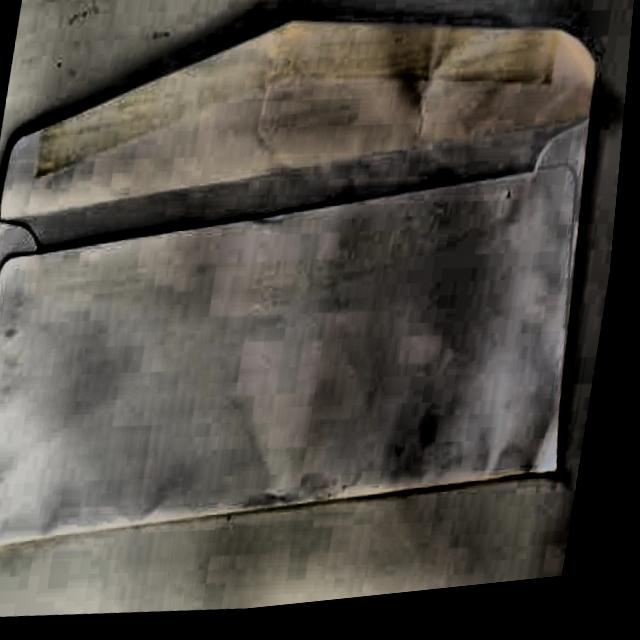Paper: (0, 0, 638, 608)
